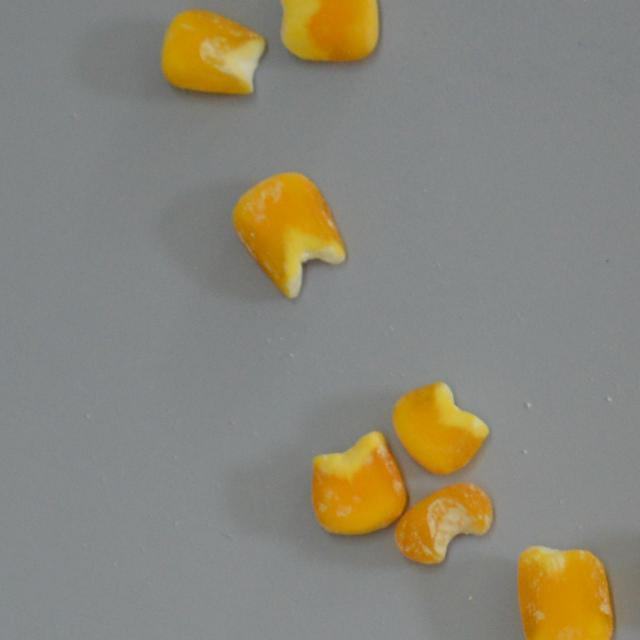dañado: (230, 169, 348, 302), (304, 428, 408, 540), (512, 540, 616, 640), (390, 378, 491, 478), (158, 6, 267, 98), (392, 480, 494, 569), (272, 0, 388, 68)
